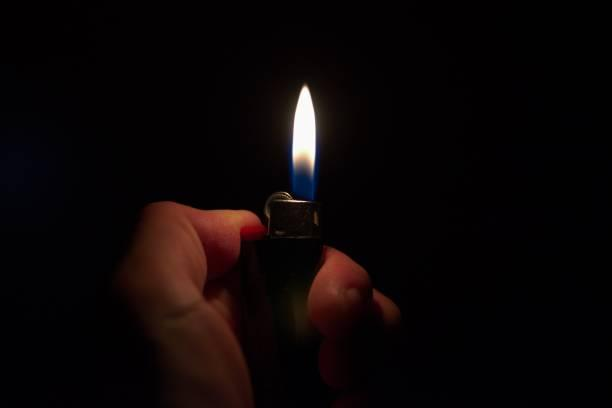Fire: (286, 77, 322, 200)
